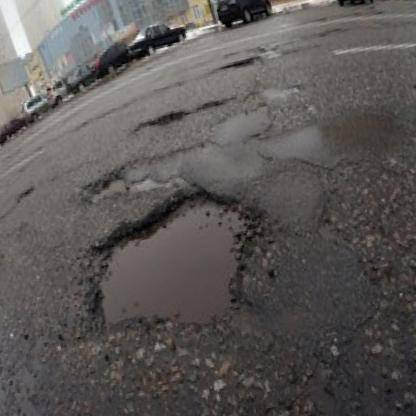pothole: (71, 172, 277, 350), (133, 96, 230, 133), (80, 166, 132, 210), (217, 54, 258, 74), (20, 185, 35, 197)
